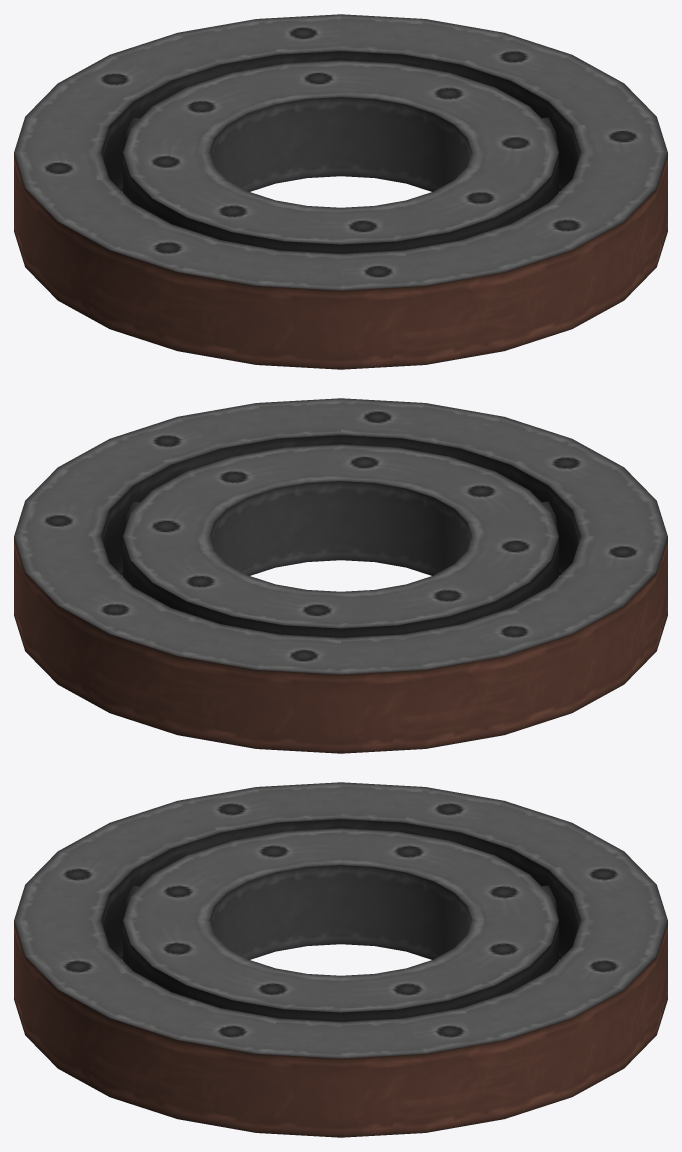
File: canopus_fairing_s0p5_1.obj
3 views of the same model, one above another, from view 1: azimuth 30°, elevation 25°; view 2: azimuth 150°, elevation 25°; view 3: azimuth 270°, elevation 25° (orthographic).
Parts seen in each view (by area): view 1: mesh1; view 2: mesh1; view 3: mesh1.
Part boxes in pixels (x1,y1,x2,y2): mesh1: (14, 14, 667, 369); mesh1: (14, 398, 667, 753); mesh1: (14, 782, 667, 1137).
Size of the model in its own units: 0.9375 by 0.125 by 0.9375.
1 material, 1 textured.
